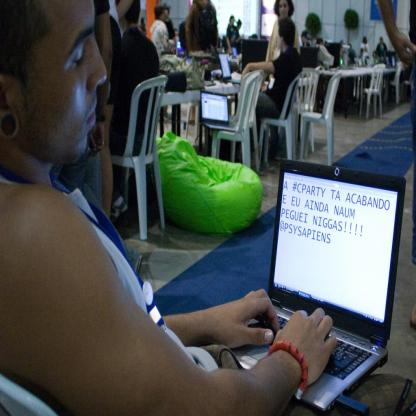board: (228, 122, 398, 413), (200, 91, 236, 130), (218, 53, 241, 86)
